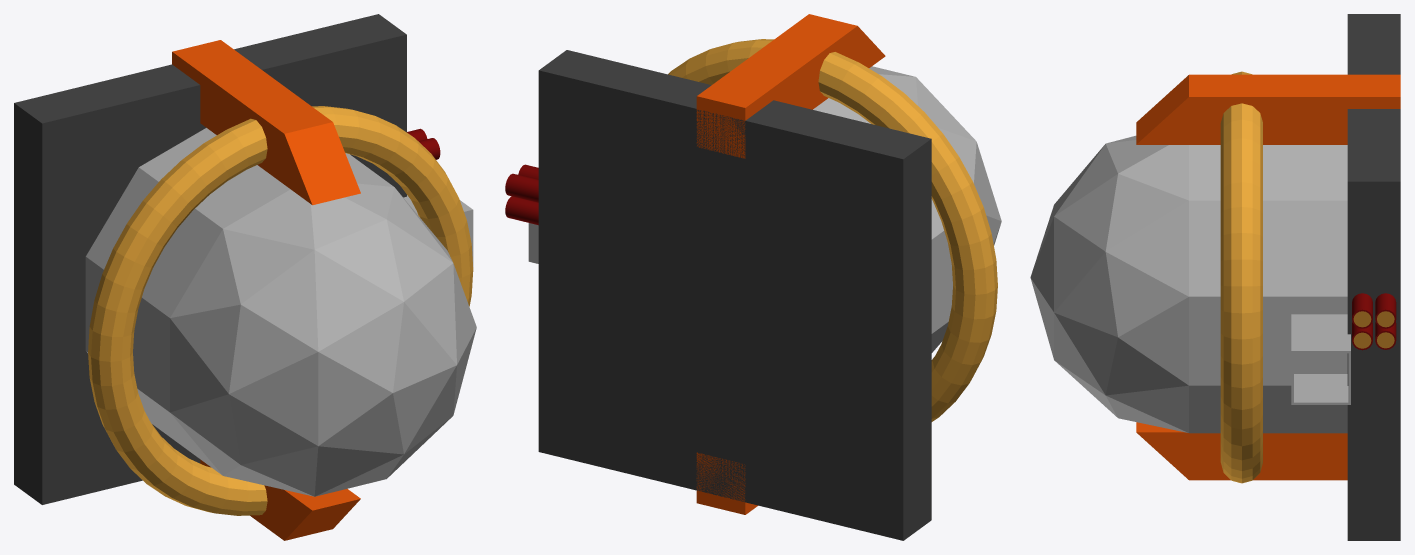
Rendered from generator.fbx.
The picture shows the model from 3 angles, left to right: view 1: azimuth 30°, elevation 25°; view 2: azimuth 150°, elevation 25°; view 3: azimuth 270°, elevation 25°; orthographic projection. The views are drawn at different scales.
Visible parts, largest first — view 1: Icosphere, Base, Cube.002, Cube.001; view 2: Base, Cube.002, Cube.001, Icosphere, Cable3, Cable4; view 3: Icosphere, Base, Cube.001, Cube.002, Cube.004, Cable3, Cable2, Cable4, Cable1.
Boxes of the visible parts, x1=… form: Icosphere: x1=85, y1=128, x2=476, y2=496; Base: x1=14, y1=14, x2=406, y2=504; Cube.002: x1=88, y1=106, x2=473, y2=515; Cube.001: x1=172, y1=40, x2=360, y2=540; Base: x1=538, y1=50, x2=931, y2=540; Cube.002: x1=668, y1=39, x2=997, y2=421; Cube.001: x1=696, y1=14, x2=885, y2=514; Icosphere: x1=813, y1=66, x2=1001, y2=352; Cable3: x1=505, y1=173, x2=538, y2=202; Cable4: x1=505, y1=196, x2=538, y2=225; Icosphere: x1=1030, y1=135, x2=1347, y2=433; Base: x1=1347, y1=14, x2=1400, y2=540; Cube.001: x1=1136, y1=74, x2=1400, y2=480; Cube.002: x1=1220, y1=71, x2=1262, y2=483; Cube.004: x1=1291, y1=314, x2=1350, y2=404; Cable3: x1=1375, y1=293, x2=1396, y2=328; Cable2: x1=1352, y1=293, x2=1372, y2=328; Cable4: x1=1375, y1=322, x2=1396, y2=349; Cable1: x1=1352, y1=322, x2=1372, y2=350.
Size of the model in its own units: 4.2 by 4 by 3.5.
